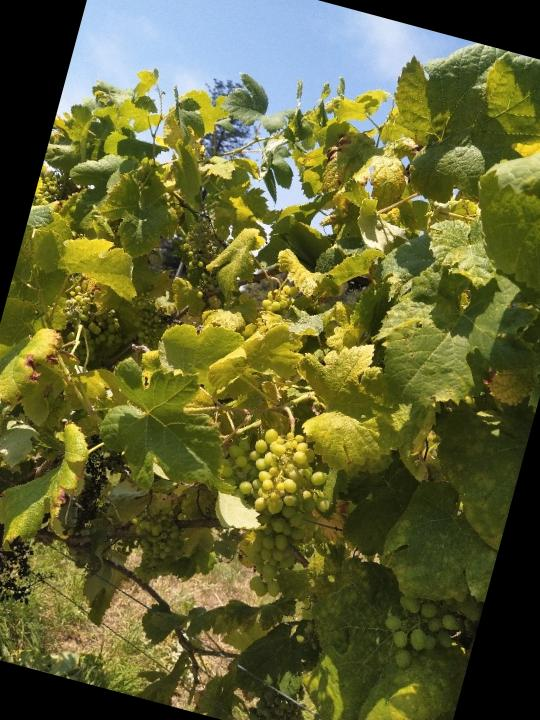grape: (191, 417, 348, 608)
